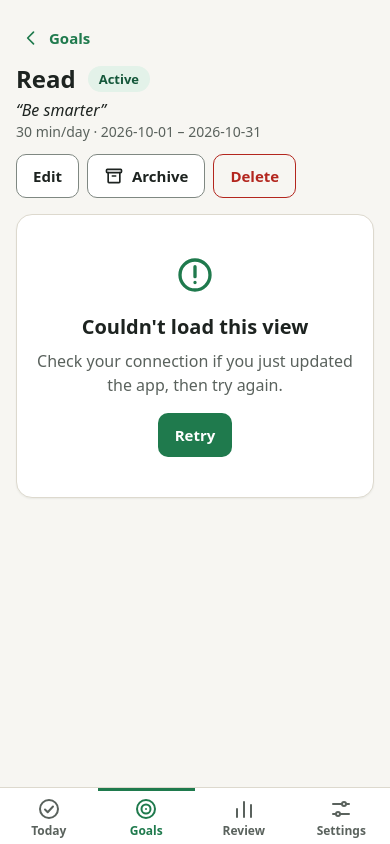
Test: Goal detail — S1 at 2026-10-09, special states, archive (M9-AC4, M9-AC6, M5-AC2 rest, M5-AC4) › entries subscription error → ErrorState with Retry that re-subscribes
Expected: the message with test id "error-state" shows "Couldn't load this view", [82,313,308,340]
Click the button "Retry" at point(195, 435), box [158,413,232,457]
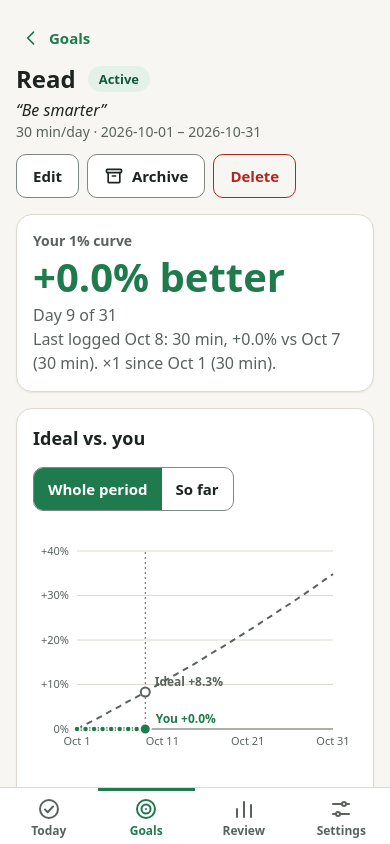
Result: the text with test id "headline" reads "+0.0% better" at [33,249,285,304]
